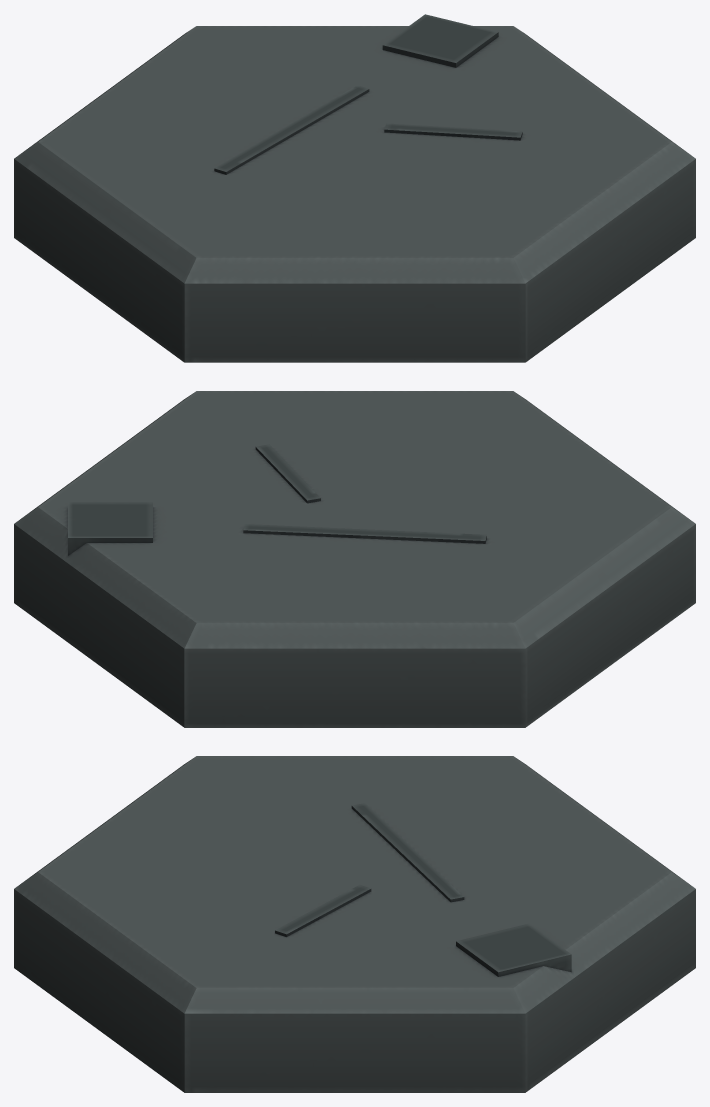
File: tile_hex_stone_a.glb
3 views of the same model, one above another, from view 1: azimuth 30°, elevation 25°; view 2: azimuth 150°, elevation 25°; view 3: azimuth 270°, elevation 25° (orthographic).
Visible parts, largest first — view 1: tile_hex_stone_a; view 2: tile_hex_stone_a; view 3: tile_hex_stone_a.
Boxes of the visible parts, x1=… form: tile_hex_stone_a: x1=14, y1=14, x2=695, y2=362; tile_hex_stone_a: x1=14, y1=391, x2=695, y2=727; tile_hex_stone_a: x1=14, y1=756, x2=695, y2=1092.
Size of the model in its own units: 1.12 by 0.21 by 1.29.
1 material, 1 textured.
